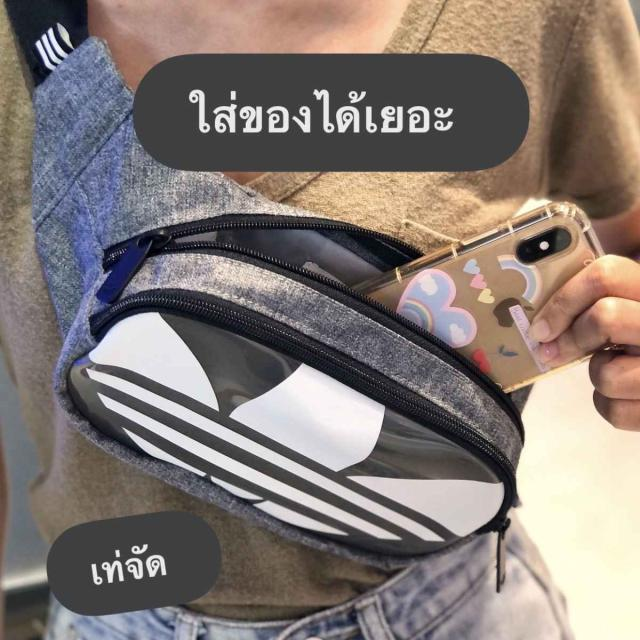Handbag: (29, 35, 530, 568)
